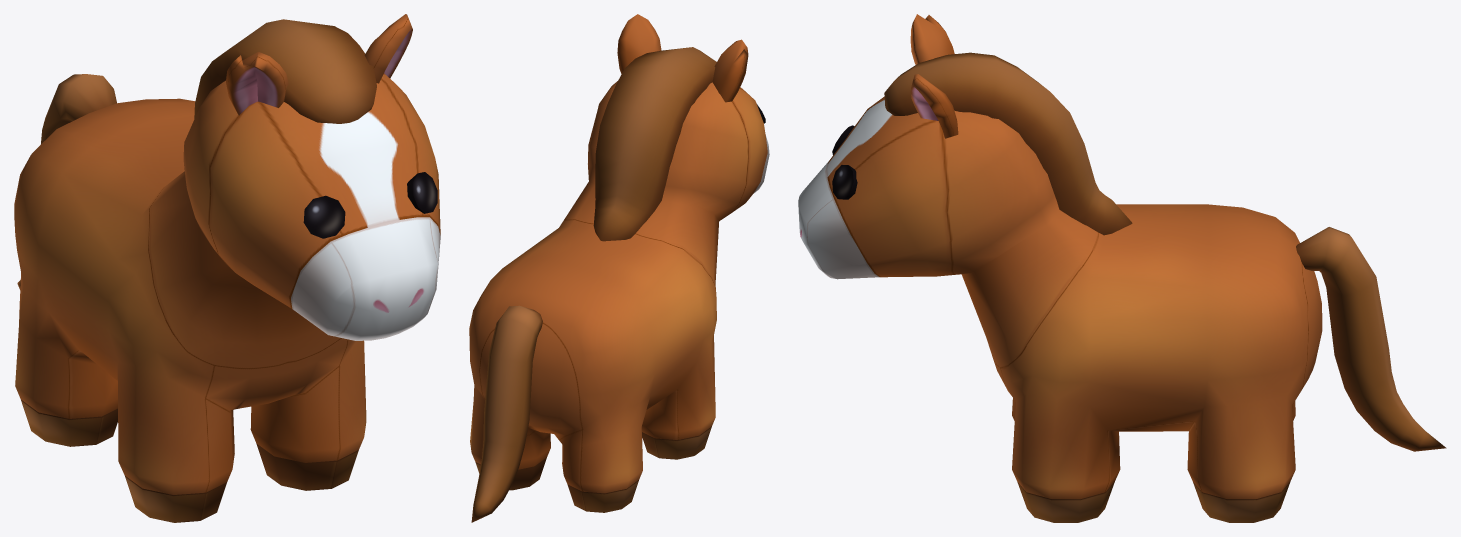
File: HorsePlush.fbx
The picture shows the model from 3 angles, left to right: view 1: azimuth 30°, elevation 25°; view 2: azimuth 150°, elevation 25°; view 3: azimuth 270°, elevation 25°; orthographic projection. The views are drawn at different scales.
Visible parts, largest first — view 1: HorsePlush; view 2: HorsePlush; view 3: HorsePlush.
Part boxes in pixels (left/top/right/bottom): HorsePlush: left=14, top=14, right=440, bottom=522; HorsePlush: left=469, top=14, right=769, bottom=522; HorsePlush: left=798, top=14, right=1446, bottom=522.
Bounding box in the file's own units: 17.83 × 37.19 × 49.05.
Materials: 1 (1 with a texture image).
